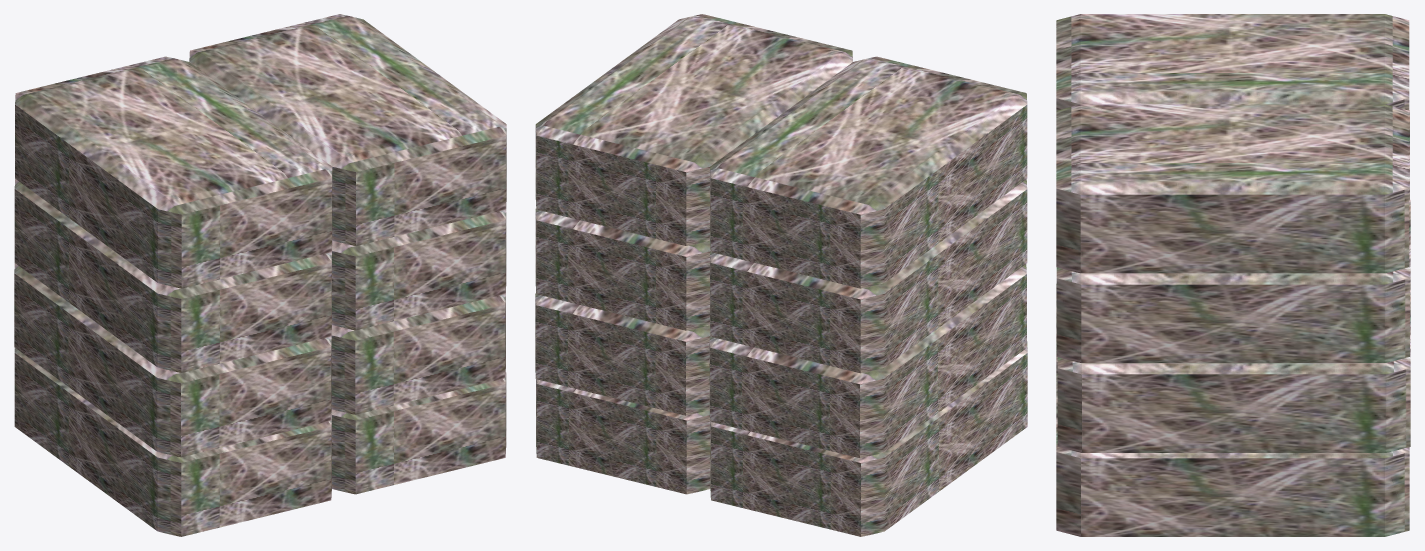
Rendered from hayWithtexture.fbx.
The picture shows the model from 3 angles, left to right: view 1: azimuth 30°, elevation 25°; view 2: azimuth 150°, elevation 25°; view 3: azimuth 270°, elevation 25°; orthographic projection. The views are drawn at different scales.
Visible parts, largest first — view 1: Cube.003, Cube.002, Cube.001, Cube; view 2: Cube.003, Cube.001, Cube.002, Cube; view 3: Cube.003, Cube.002, Cube.001, Cube.
Boxes of the visible parts, x1,y1,x2,y2 form: Cube.003: (15,14,506,288); Cube.002: (14,179,506,372); Cube.001: (14,263,505,457); Cube: (14,348,506,536); Cube.003: (535,14,1027,288); Cube.001: (535,264,1026,458); Cube.002: (535,179,1027,373); Cube: (536,341,1027,536); Cube.003: (1056,14,1409,273); Cube.002: (1056,110,1409,363); Cube.001: (1057,200,1410,452); Cube: (1056,284,1409,536).
Size of the model in its own units: 147 by 178 by 163.
